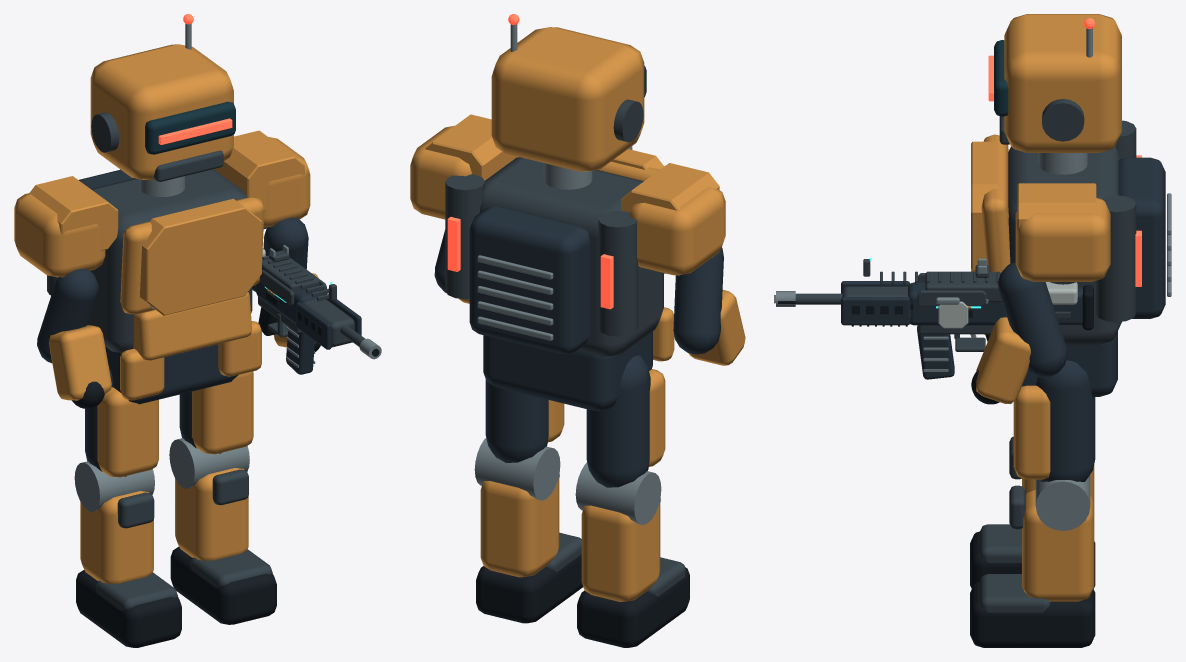
Rendered from assault-sentinel.glb.
The picture shows the model from 3 angles, left to right: view 1: azimuth 30°, elevation 25°; view 2: azimuth 150°, elevation 25°; view 3: azimuth 270°, elevation 25°; orthographic projection. The views are drawn at different scales.
Visible parts, largest first — view 1: torso / Safety ochre, head / Safety ochre, leg_L / Safety ochre, leg_R / Safety ochre, arm_L / Safety ochre, torso / Gunmetal, assault Sentinel / Safety ochre, leg_R / Grip rubber, leg_L / Grip rubber, hips / Safety ochre, hips / Graphite polymer, arm_L / Graphite polymer (+19 smaller); view 2: head / Safety ochre, torso / Gunmetal, torso / Graphite polymer, leg_L / Safety ochre, arm_L / Safety ochre, hips / Graphite polymer, leg_R / Safety ochre, leg_L / Graphite polymer, assault Sentinel / Safety ochre, leg_L / Grip rubber, leg_R / Grip rubber, leg_R / Graphite polymer (+11 smaller); view 3: head / Safety ochre, arm_R / Safety ochre, torso / Gunmetal, leg_R / Safety ochre, leg_R / Grip rubber, leg_R / Graphite polymer, torso / Graphite polymer, torso / Safety ochre, receiver / Gunmetal, arm_R / Graphite polymer, leg_R / Gunmetal, assault Sentinel / Safety ochre (+13 smaller).
Part boxes in pixels (left/top/right/bottom): torso / Safety ochre: left=120, top=197, right=264, bottom=360; head / Safety ochre: left=90, top=44, right=233, bottom=179; leg_L / Safety ochre: left=80, top=387, right=158, bottom=584; leg_R / Safety ochre: left=175, top=371, right=253, bottom=561; arm_L / Safety ochre: left=14, top=193, right=111, bottom=400; torso / Gunmetal: left=47, top=169, right=252, bottom=352; assault Sentinel / Safety ochre: left=27, top=130, right=304, bottom=250; leg_R / Grip rubber: left=170, top=546, right=276, bottom=624; leg_L / Grip rubber: left=76, top=570, right=181, bottom=647; hips / Safety ochre: left=120, top=320, right=261, bottom=400; hips / Graphite polymer: left=105, top=344, right=238, bottom=404; arm_L / Graphite polymer: left=37, top=268, right=98, bottom=363; head / Safety ochre: left=491, top=27, right=644, bottom=171; torso / Gunmetal: left=445, top=157, right=663, bottom=356; torso / Graphite polymer: left=469, top=206, right=590, bottom=353; leg_L / Safety ochre: left=581, top=369, right=665, bottom=601; arm_L / Safety ochre: left=629, top=187, right=745, bottom=365; hips / Graphite polymer: left=483, top=331, right=652, bottom=410; leg_R / Safety ochre: left=480, top=400, right=564, bottom=577; leg_L / Graphite polymer: left=586, top=355, right=650, bottom=487; assault Sentinel / Safety ochre: left=425, top=114, right=719, bottom=212; leg_L / Grip rubber: left=577, top=567, right=689, bottom=647; leg_R / Grip rubber: left=476, top=554, right=582, bottom=623; leg_R / Graphite polymer: left=485, top=379, right=548, bottom=462; head / Safety ochre: left=1004, top=14, right=1121, bottom=152; arm_R / Safety ochre: left=976, top=197, right=1110, bottom=403; torso / Gunmetal: left=1008, top=120, right=1136, bottom=345; leg_R / Safety ochre: left=1013, top=385, right=1094, bottom=601; leg_R / Grip rubber: left=970, top=581, right=1095, bottom=647; leg_R / Graphite polymer: left=1036, top=360, right=1095, bottom=482; torso / Graphite polymer: left=1118, top=157, right=1165, bottom=318; torso / Safety ochre: left=971, top=134, right=1010, bottom=334; receiver / Gunmetal: left=795, top=259, right=1070, bottom=351; arm_R / Graphite polymer: left=998, top=262, right=1067, bottom=377; leg_R / Gunmetal: left=979, top=485, right=1050, bottom=612; assault Sentinel / Safety ochre: left=1017, top=183, right=1096, bottom=229.
Bounding box in the file's own units: 0.87 × 1.79 × 1.05.
